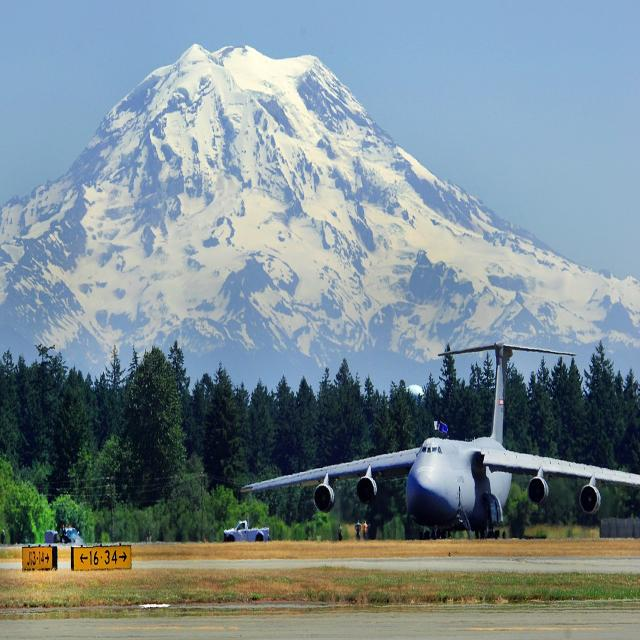MIL_Plane: (195, 291, 595, 491)
